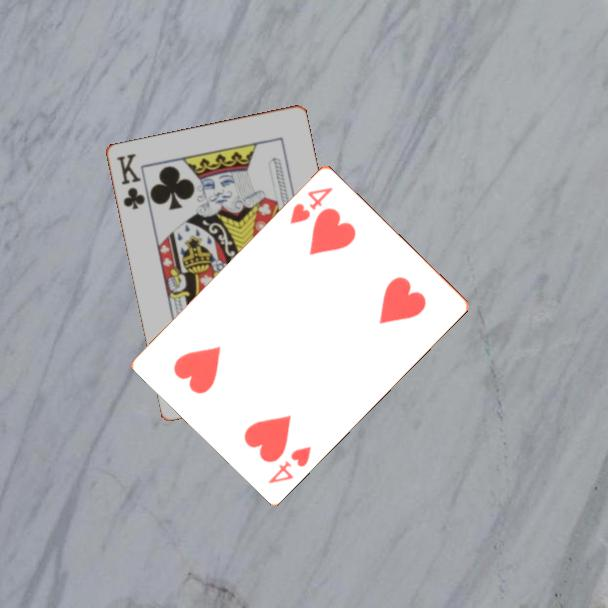c13: (113, 150, 148, 212)
h04: (286, 183, 336, 227), (264, 442, 314, 486)
